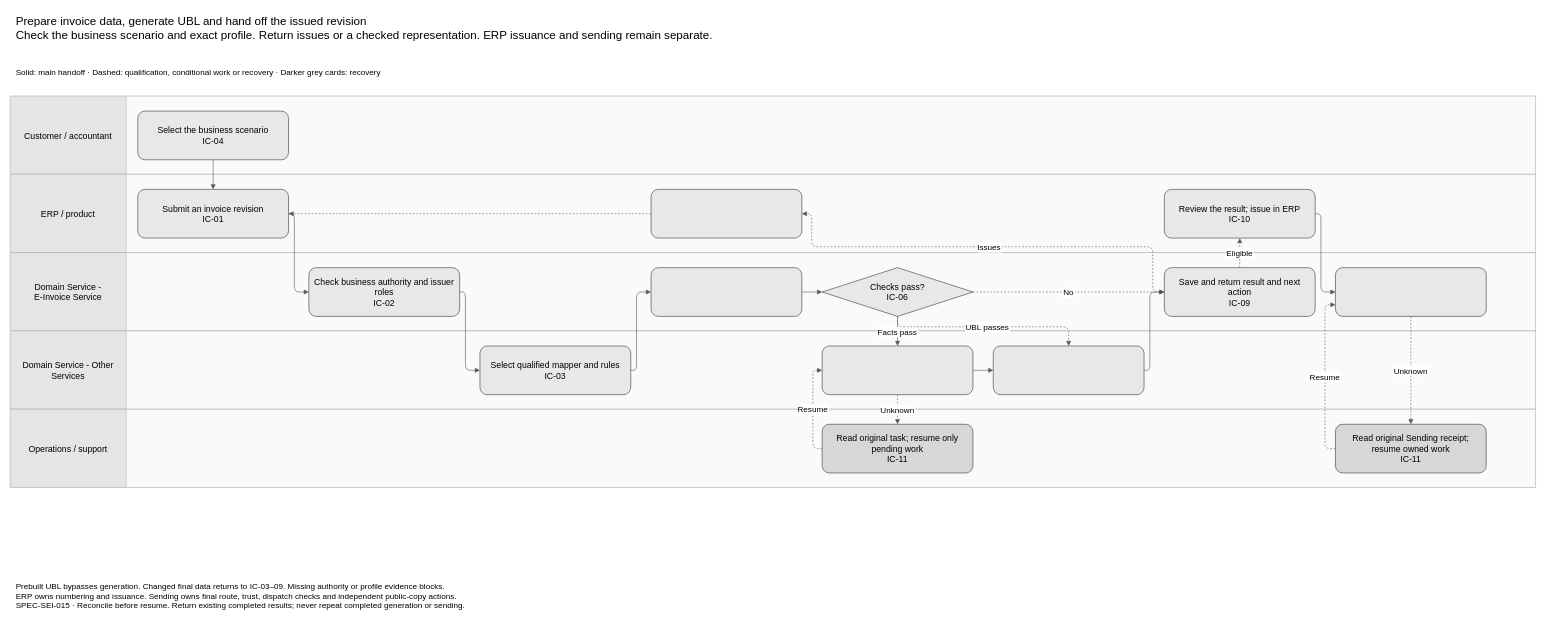
The diagram is 1546 pixels wide and 628 high, and some of its shapes have lost their labels. Each missing label, with the centre of its shape:
Bind final revision; hand to Sending IC-10: the point at 1410,291
Check type, links, identity and amounts IC-04–06: the point at 726,291
Correct the draft in a new revision IC-12: the point at 726,213
Generate a separate UBL file IC-07: the point at 897,370
Validate exact bytes and business meaning IC-08: the point at 1068,370
